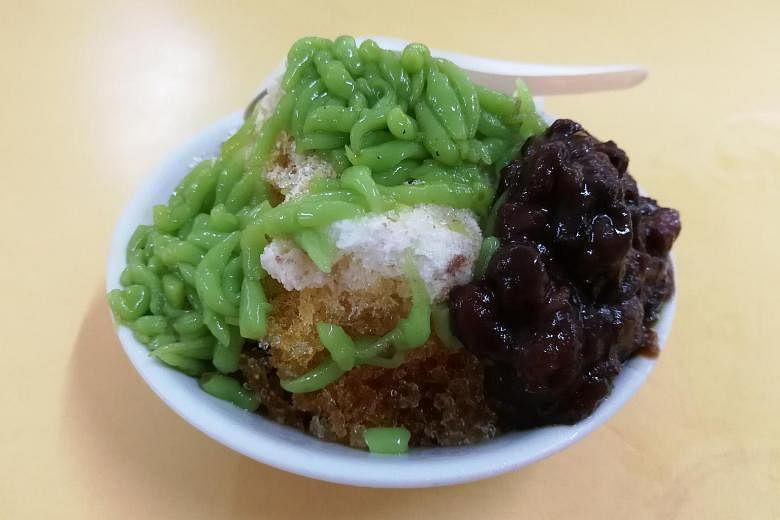Chendol: (122, 47, 673, 455)
